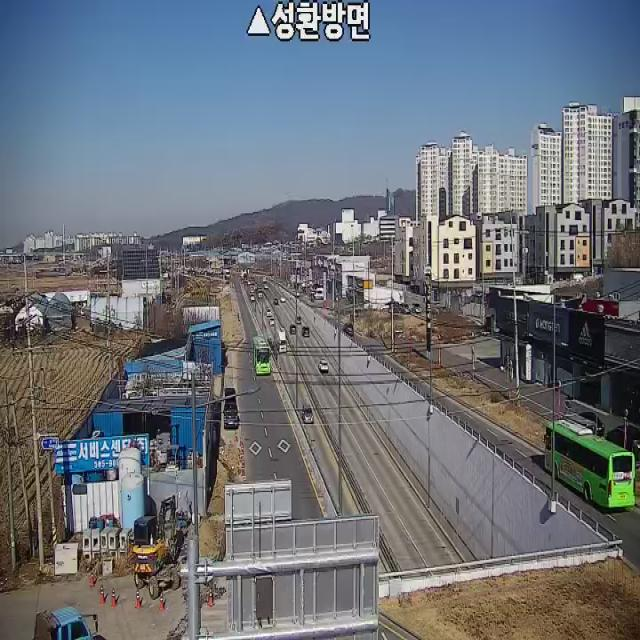Bus: (542, 420, 636, 508), (253, 336, 270, 374)
Car: (605, 424, 640, 460), (573, 411, 604, 441), (302, 404, 314, 424), (342, 322, 354, 337), (318, 358, 328, 371), (302, 325, 310, 337), (290, 324, 296, 334), (266, 308, 273, 316), (270, 317, 276, 326), (296, 315, 301, 325), (274, 298, 278, 304)
Truck: (124, 480, 186, 601), (34, 607, 99, 640), (223, 388, 237, 428), (275, 326, 287, 353)
